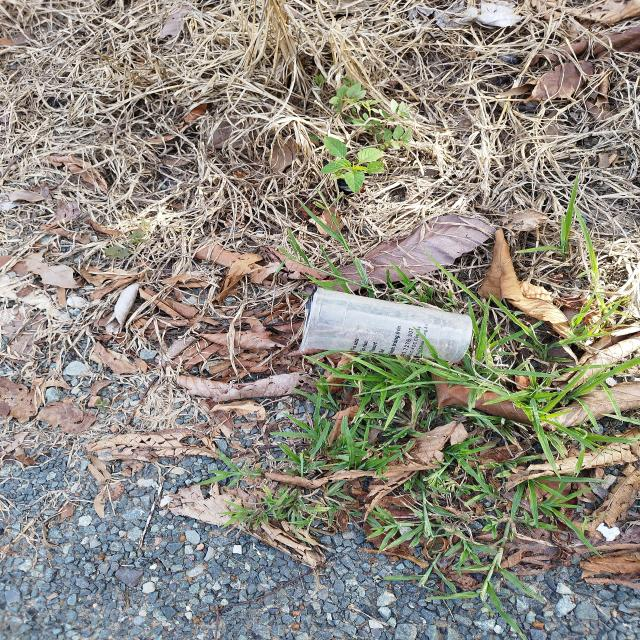plastic glass: (297, 286, 473, 362)
